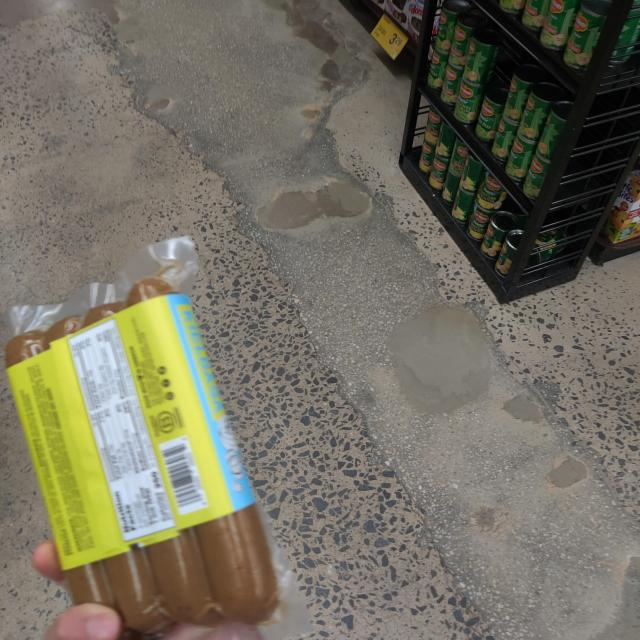Meat: (0, 275, 303, 640)
